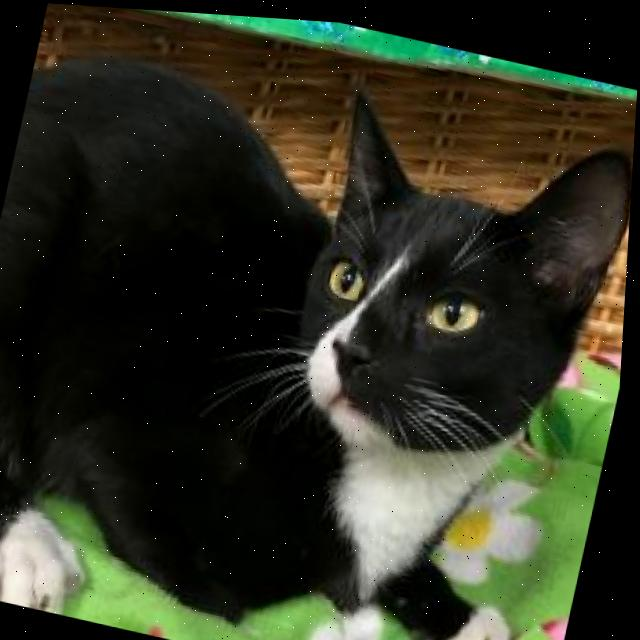Tuxedo: (0, 6, 640, 640)
